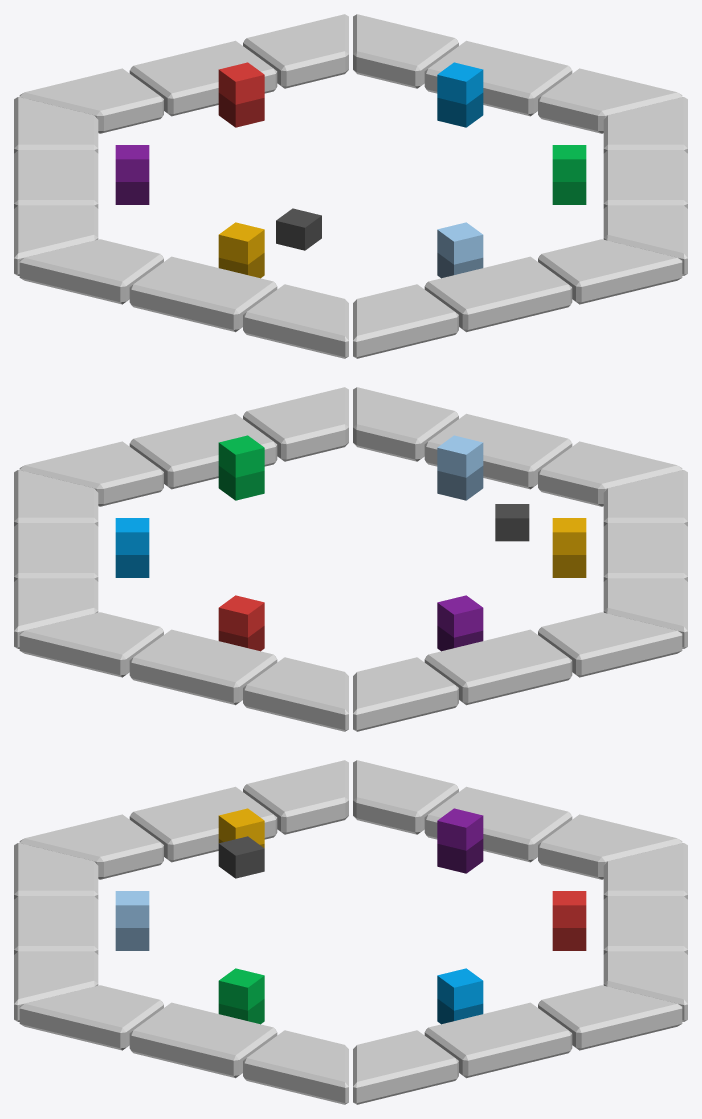
Rendered from tiles.glb.
The picture shows the model from 3 angles, top to bottom: view 1: azimuth 30°, elevation 25°; view 2: azimuth 150°, elevation 25°; view 3: azimuth 270°, elevation 25°; orthographic projection.
Parts seen in each view (by area): view 1: Tile Type B (×6), Tile Type A (×6), Tile Type C (×6), TopTileMaterial.000, TopTileMaterial.003, TopTileMaterial.005, TopTileMaterial.002, NeutralMaterial, TopTileMaterial.004, TopTileMaterial.001, BaseTileMaterial.003, BaseTileMaterial.002 (+4 smaller); view 2: Tile Type B (×6), Tile Type A (×6), Tile Type C (×6), TopTileMaterial.000, TopTileMaterial.004, TopTileMaterial.003, TopTileMaterial.001, NeutralMaterial, TopTileMaterial.005, TopTileMaterial.002, BaseTileMaterial.001, BaseTileMaterial.000 (+4 smaller); view 3: Tile Type B (×6), Tile Type A (×6), Tile Type C (×6), NeutralMaterial, TopTileMaterial.004, TopTileMaterial.002, TopTileMaterial.001, TopTileMaterial.005, TopTileMaterial.000, TopTileMaterial.003, BaseTileMaterial.004, BaseTileMaterial.003 (+3 smaller).
Part boxes in pixels (bbox=[...]): Tile Type B (×6): bbox=[14, 40, 687, 332]; Tile Type A (×6): bbox=[14, 14, 687, 358]; Tile Type C (×6): bbox=[14, 14, 687, 358]; TopTileMaterial.000: bbox=[437, 222, 483, 264]; TopTileMaterial.003: bbox=[218, 62, 264, 104]; TopTileMaterial.005: bbox=[218, 222, 264, 264]; TopTileMaterial.002: bbox=[437, 62, 483, 104]; NeutralMaterial: bbox=[276, 208, 321, 250]; TopTileMaterial.004: bbox=[115, 145, 149, 181]; TopTileMaterial.001: bbox=[552, 145, 586, 181]; BaseTileMaterial.003: bbox=[218, 93, 264, 127]; BaseTileMaterial.002: bbox=[437, 93, 483, 127]; Tile Type B (×6): bbox=[14, 413, 687, 705]; Tile Type A (×6): bbox=[14, 387, 687, 731]; Tile Type C (×6): bbox=[14, 387, 687, 731]; TopTileMaterial.000: bbox=[437, 435, 483, 477]; TopTileMaterial.004: bbox=[437, 595, 483, 637]; TopTileMaterial.003: bbox=[218, 595, 264, 637]; TopTileMaterial.001: bbox=[218, 435, 264, 477]; NeutralMaterial: bbox=[495, 504, 529, 541]; TopTileMaterial.005: bbox=[552, 518, 586, 554]; TopTileMaterial.002: bbox=[115, 518, 149, 554]; BaseTileMaterial.001: bbox=[218, 466, 264, 500]; BaseTileMaterial.000: bbox=[437, 466, 483, 500]; Tile Type B (×6): bbox=[14, 786, 687, 1078]; Tile Type A (×6): bbox=[14, 760, 687, 1104]; Tile Type C (×6): bbox=[14, 760, 687, 1104]; NeutralMaterial: bbox=[218, 836, 264, 878]; TopTileMaterial.004: bbox=[437, 808, 483, 850]; TopTileMaterial.002: bbox=[437, 968, 483, 1010]; TopTileMaterial.001: bbox=[218, 968, 264, 1010]; TopTileMaterial.005: bbox=[218, 808, 264, 844]; TopTileMaterial.000: bbox=[115, 891, 149, 927]; TopTileMaterial.003: bbox=[552, 891, 586, 927]; BaseTileMaterial.004: bbox=[437, 839, 483, 873]; BaseTileMaterial.003: bbox=[552, 928, 586, 950].
Bounding box in the file's own units: 1.83 × 0.12 × 1.6.
